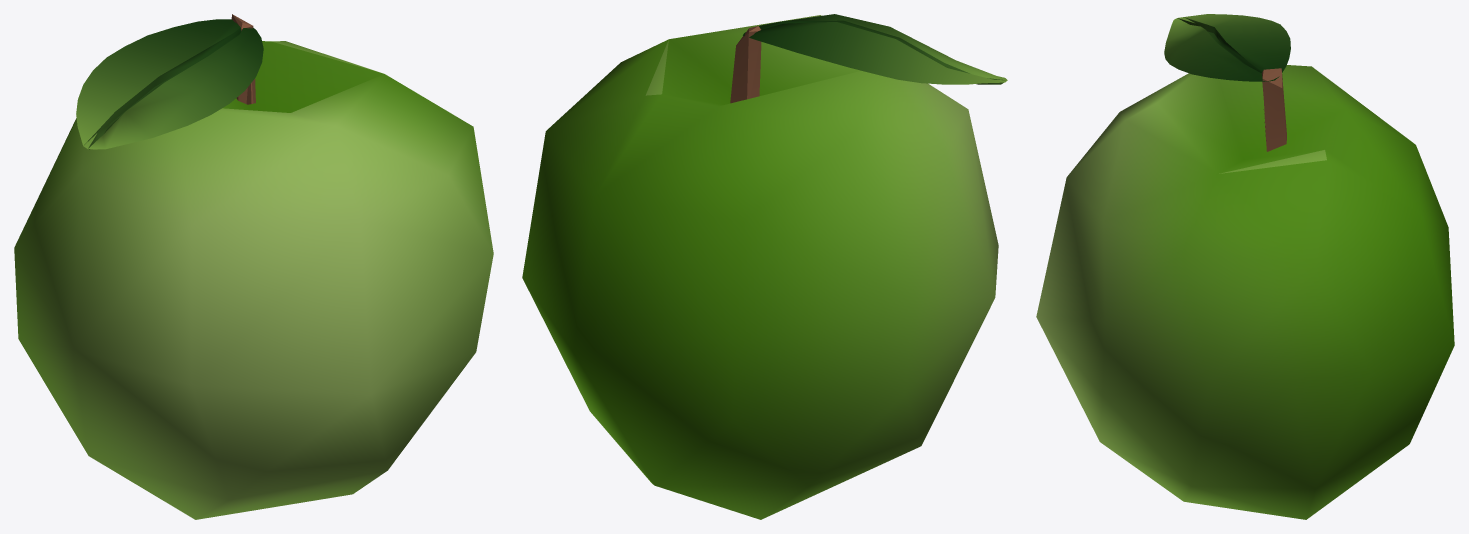
Rendered from applegreen.glb.
3 renders of one model, left to right at view 1: azimuth 30°, elevation 25°; view 2: azimuth 150°, elevation 25°; view 3: azimuth 270°, elevation 25°, orthographic. The views are drawn at different scales.
Parts seen in each view (by area): view 1: applegreen; view 2: applegreen; view 3: applegreen.
Part boxes in pixels (x1=…): applegreen: x1=14, y1=14, x2=493, y2=519; applegreen: x1=522, y1=14, x2=1007, y2=519; applegreen: x1=1036, y1=14, x2=1454, y2=519.
Bounding box in the file's own units: 0.2656 × 0.2837 × 0.2583.
1 material, 1 textured.
